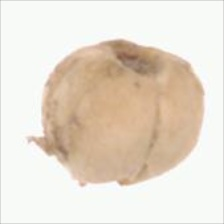L3: (72, 173, 155, 187)
L4: (39, 39, 204, 187)
